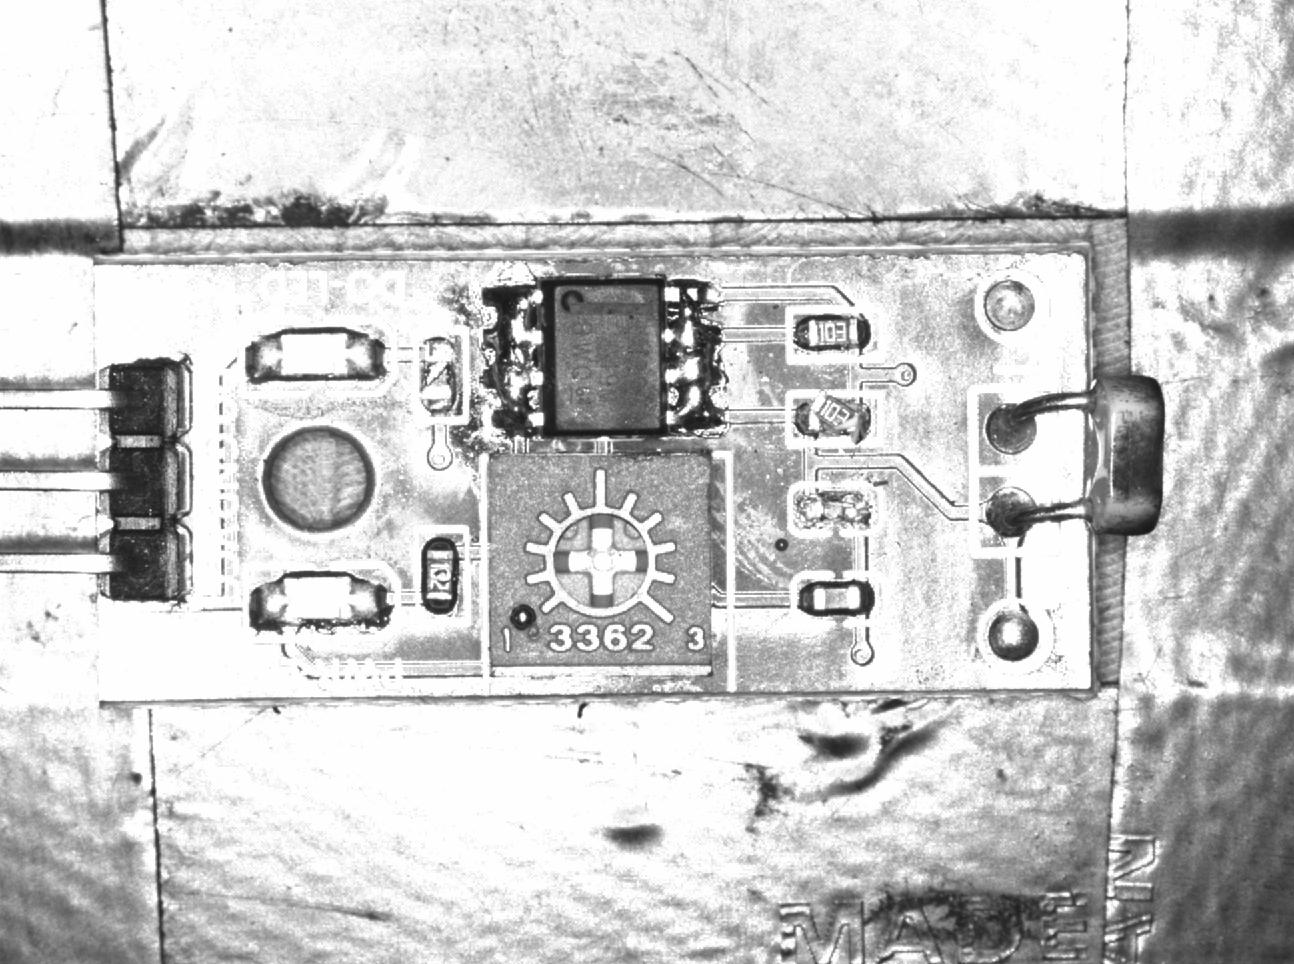bridge: (475, 280, 547, 440), (665, 268, 723, 443)
lifted: (788, 391, 886, 447)
miss: (413, 327, 468, 423), (788, 482, 882, 536)
ok: (788, 307, 883, 361), (415, 529, 469, 622), (789, 574, 880, 621)
